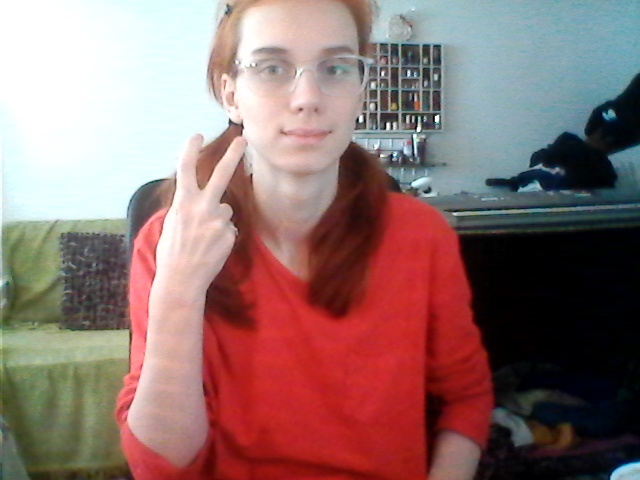usmievat: (159, 126, 343, 262)
